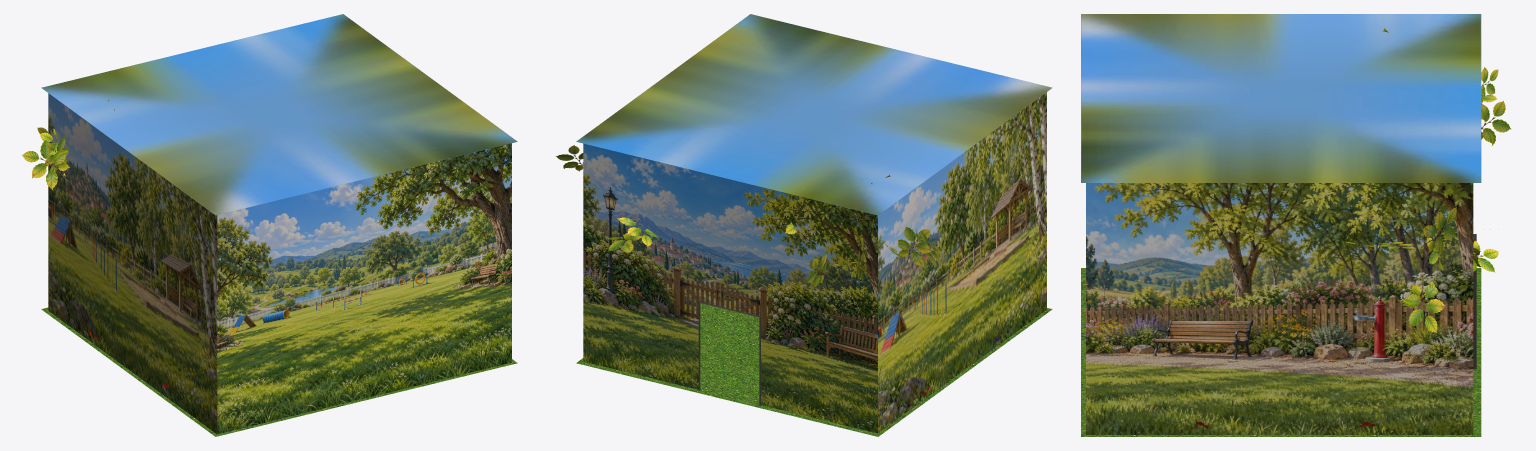
Rendered from dog-park.glb.
The picture shows the model from 3 angles, left to right: view 1: azimuth 30°, elevation 25°; view 2: azimuth 150°, elevation 25°; view 3: azimuth 270°, elevation 25°; orthographic projection. The views are drawn at different scales.
Visible parts, largest first — view 1: Mural.dog-park.back, Mural.dog-park.ceiling, Mural.dog-park.right, Floor, Card.forest.leaves-1; view 2: Mural.dog-park.front, Mural.dog-park.ceiling, Mural.dog-park.right, Floor, Card.forest.leaves-1, Trim; view 3: Mural.dog-park.left, Mural.dog-park.ceiling, Card.forest.leaves-1, Floor, Trim.
Part boxes in pixels (x1,y1,x2,y2): Mural.dog-park.back: (217, 143, 511, 434); Mural.dog-park.ceiling: (41, 14, 517, 215); Mural.dog-park.right: (48, 93, 217, 433); Floor: (41, 307, 517, 436); Card.forest.leaves-1: (21, 99, 114, 190); Mural.dog-park.front: (583, 143, 877, 433); Mural.dog-park.ceiling: (576, 14, 1052, 215); Mural.dog-park.right: (878, 92, 1046, 432); Floor: (576, 303, 1052, 436); Card.forest.leaves-1: (555, 145, 942, 289); Trim: (698, 301, 760, 405); Mural.dog-park.left: (1086, 183, 1473, 434); Mural.dog-park.ceiling: (1081, 14, 1481, 182); Card.forest.leaves-1: (1344, 28, 1511, 332); Floor: (1081, 268, 1481, 436); Trim: (1473, 234, 1476, 369).
Bounding box in the file's own units: 12.85 × 7.41 × 11.02.
Materials: 11 (10 with a texture image).
